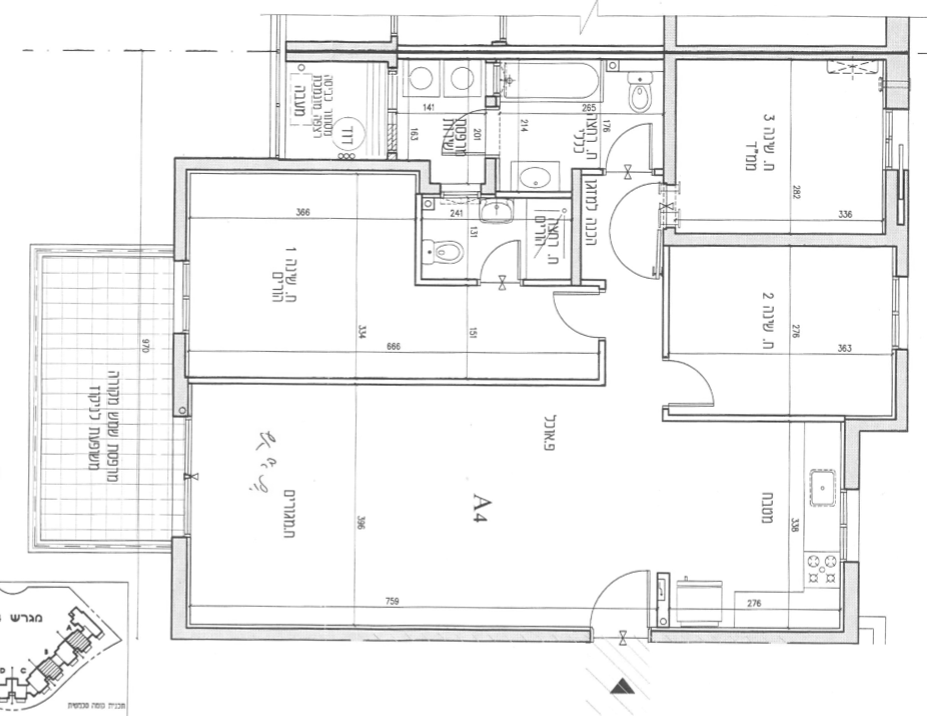door: (583, 563, 653, 628), (656, 356, 719, 412), (549, 287, 608, 341), (605, 118, 656, 179), (474, 236, 525, 290)
window: (171, 415, 192, 540), (882, 108, 911, 171), (839, 488, 861, 563), (891, 276, 910, 351), (172, 260, 191, 334)
